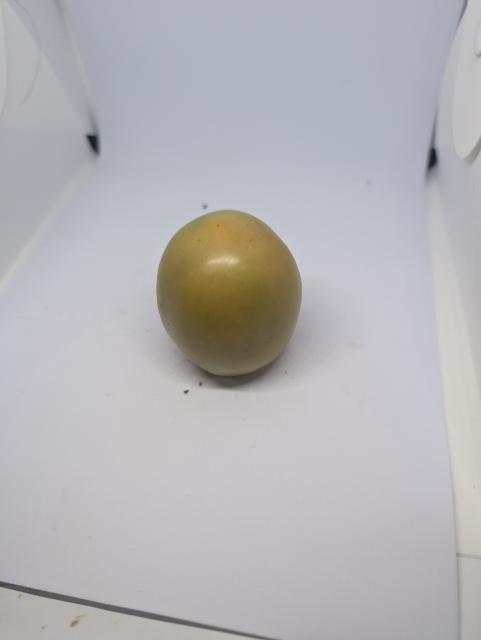breaker: (157, 210, 302, 376)
